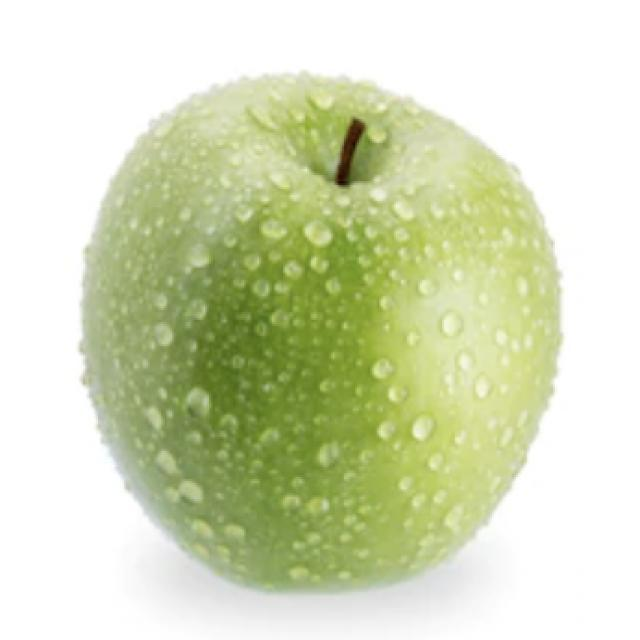Fresh Apple: (91, 72, 546, 598)
